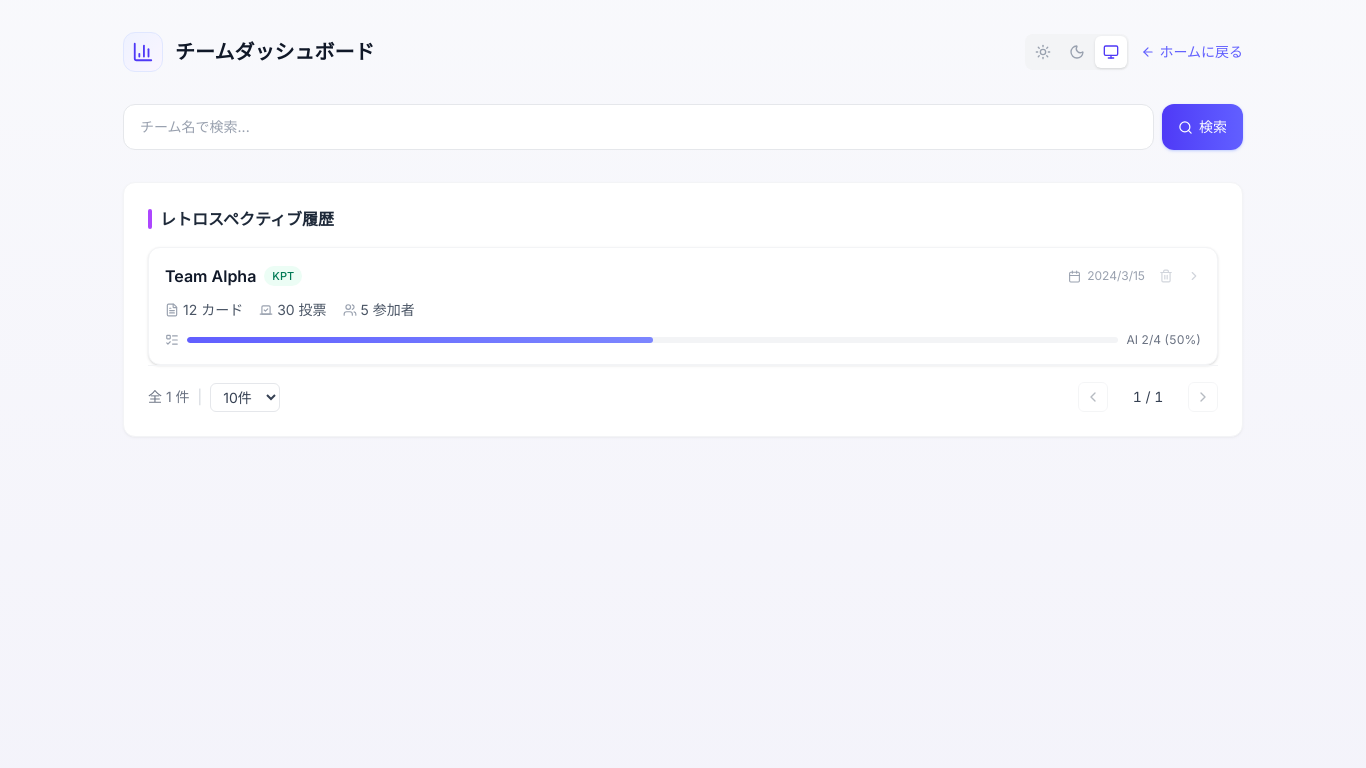
TeamDashboardPage › shows delete confirmation dialog when delete button clicked
Click the button named "スナップショットを削除".
click(1166, 276)  # box [1155, 265, 1177, 287]
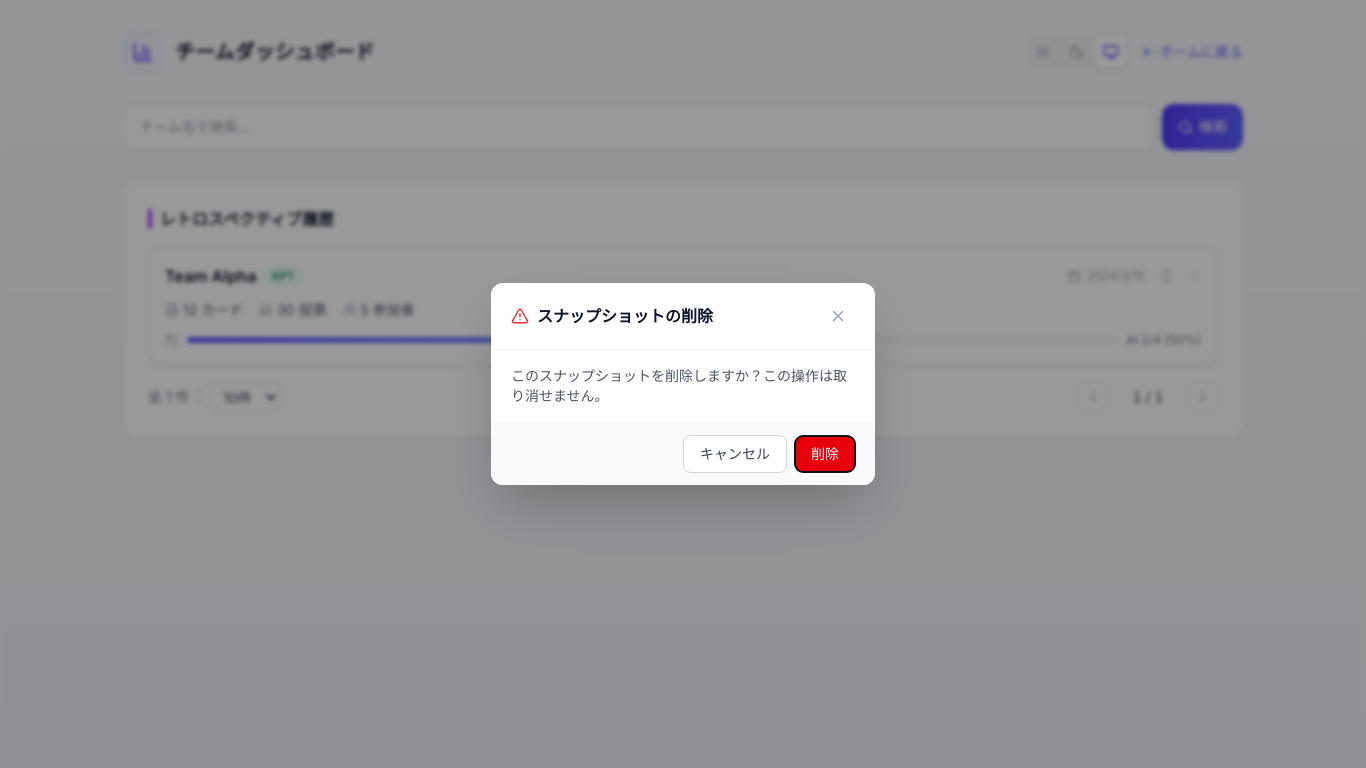
Now the heading "スナップショットの削除" is shown, box [537, 304, 713, 328]
Now the text "このスナップショットを削除しますか？この操作は取り消せません。" is shown, box [511, 366, 855, 406]
